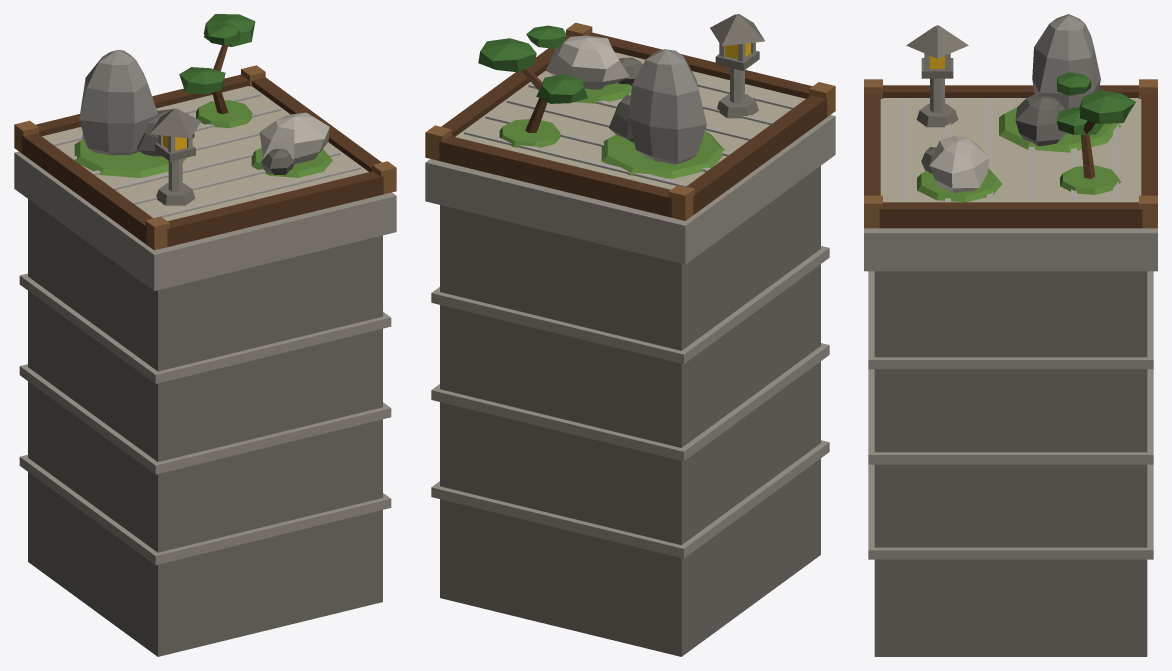
The model's file is decor_rock_garden.glb.
3 views of the same model, side by side, from view 1: azimuth 30°, elevation 25°; view 2: azimuth 150°, elevation 25°; view 3: azimuth 270°, elevation 25° (orthographic). The views are drawn at different scales.
Parts seen in each view (by area): view 1: decor_rock_garden; view 2: decor_rock_garden; view 3: decor_rock_garden.
Boxes of the visible parts, x1=… form: decor_rock_garden: x1=14, y1=14, x2=396, y2=656; decor_rock_garden: x1=425, y1=14, x2=835, y2=656; decor_rock_garden: x1=864, y1=14, x2=1157, y2=656.
Size of the model in its own units: 2.8 by 5.81 by 2.8.
